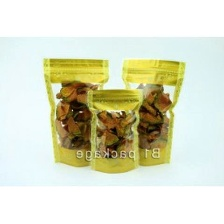snack: (38, 52, 113, 171), (117, 54, 191, 169), (83, 84, 146, 176)
